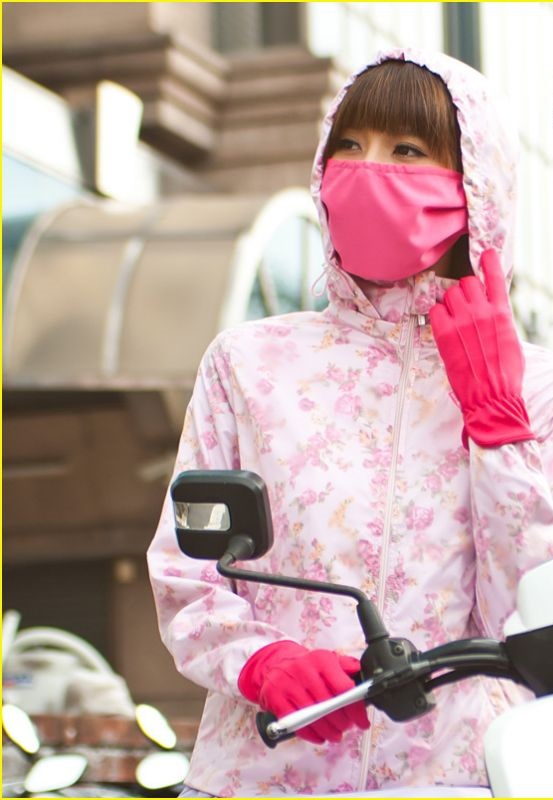face_mask: (323, 83, 448, 279)
